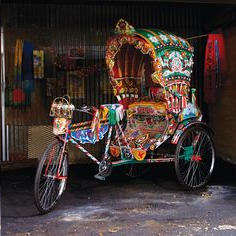Rickshaw: (30, 24, 217, 198)
